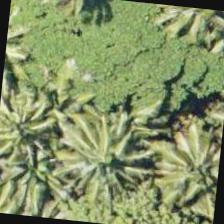Kelapa_Sawit: (48, 88, 148, 187), (0, 72, 87, 171), (149, 113, 223, 210)
